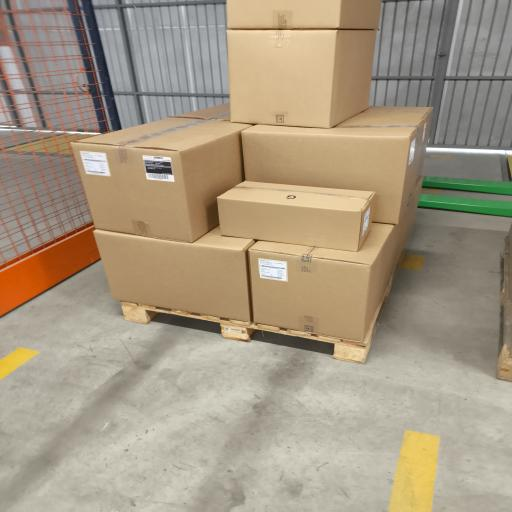pallet: (121, 268, 397, 363), (497, 228, 511, 381)
